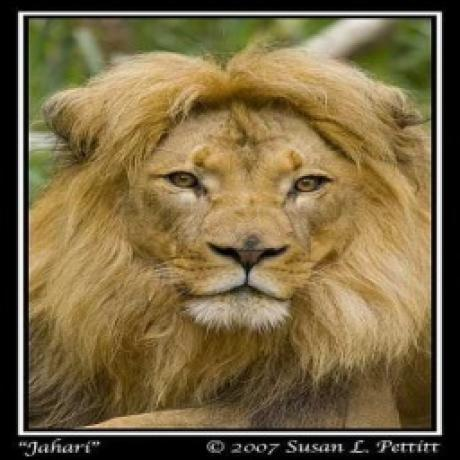Lion: (29, 43, 436, 429)
